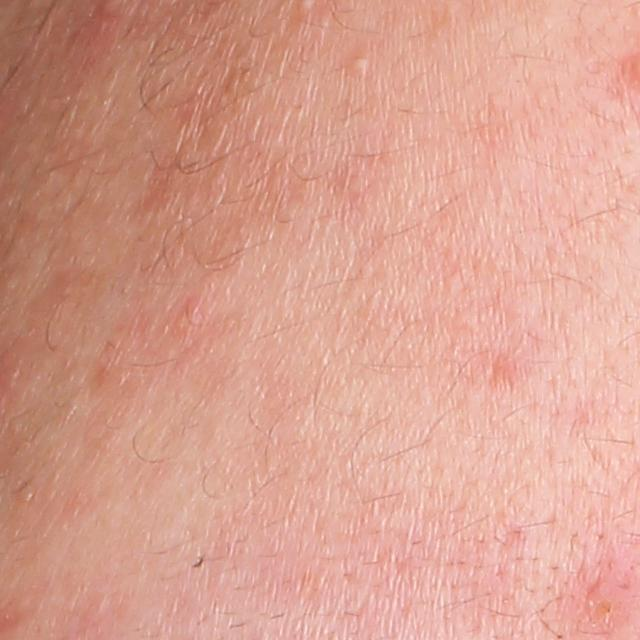comedo: (344, 49, 378, 79)
